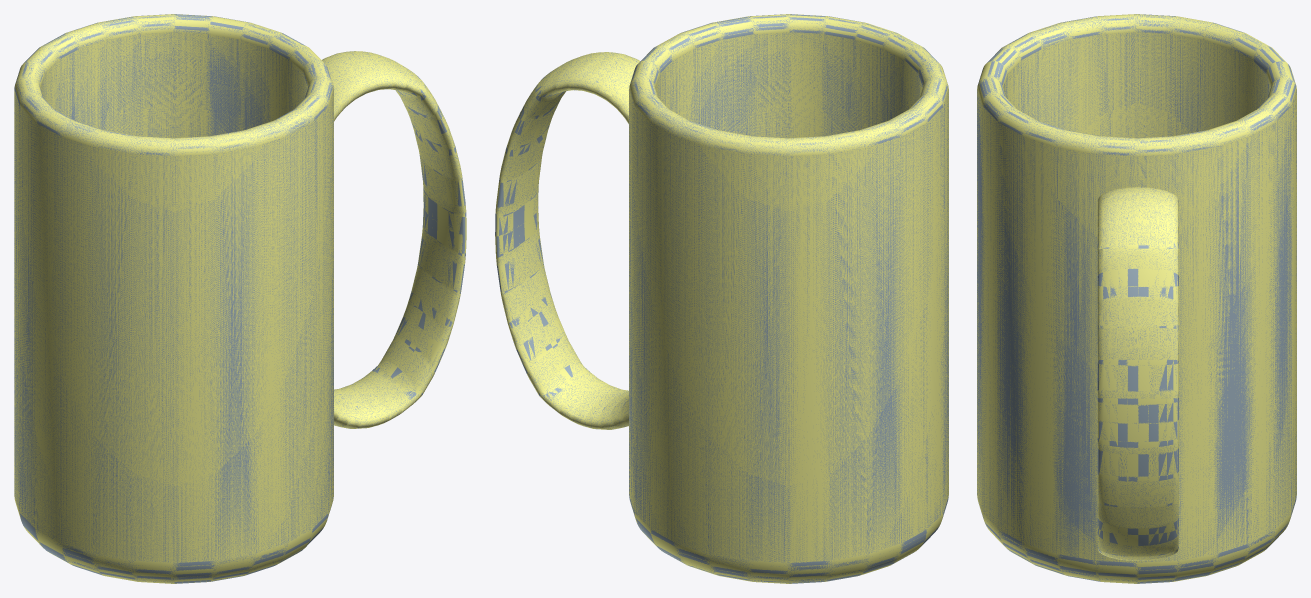
File: cup.fbx
3 renders of one model, left to right at view 1: azimuth 30°, elevation 25°; view 2: azimuth 150°, elevation 25°; view 3: azimuth 270°, elevation 25°, orthographic.
Parts seen in each view (by area): view 1: Group1; view 2: Group1; view 3: Group1.
Boxes of the visible parts, box(x1,y1,x2,y2) form: Group1: box(14, 14, 466, 583); Group1: box(495, 14, 948, 583); Group1: box(977, 14, 1296, 583).
Bounding box in the file's own units: 12.05 × 12.47 × 7.99.
